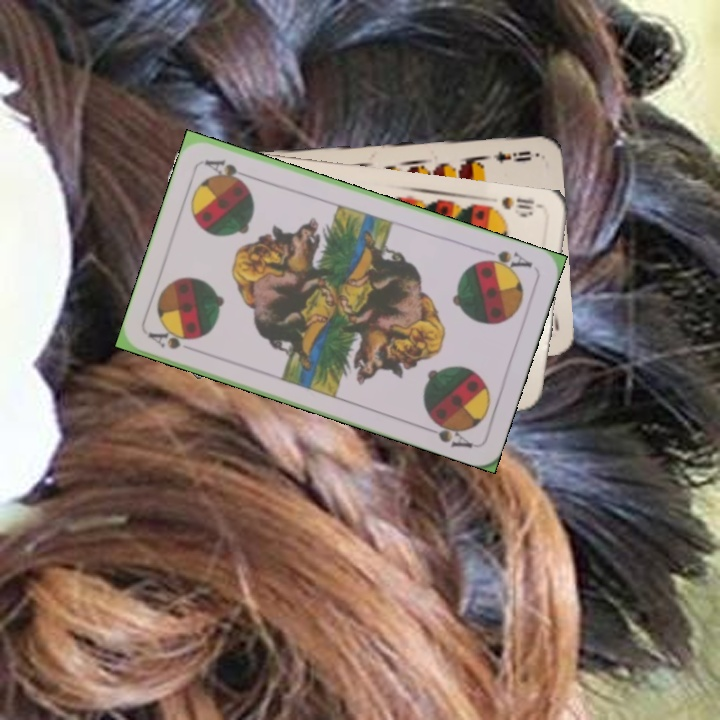E9: (489, 147, 534, 166)
S10: (497, 192, 537, 218)
SA: (475, 246, 535, 276), (144, 326, 198, 352)
